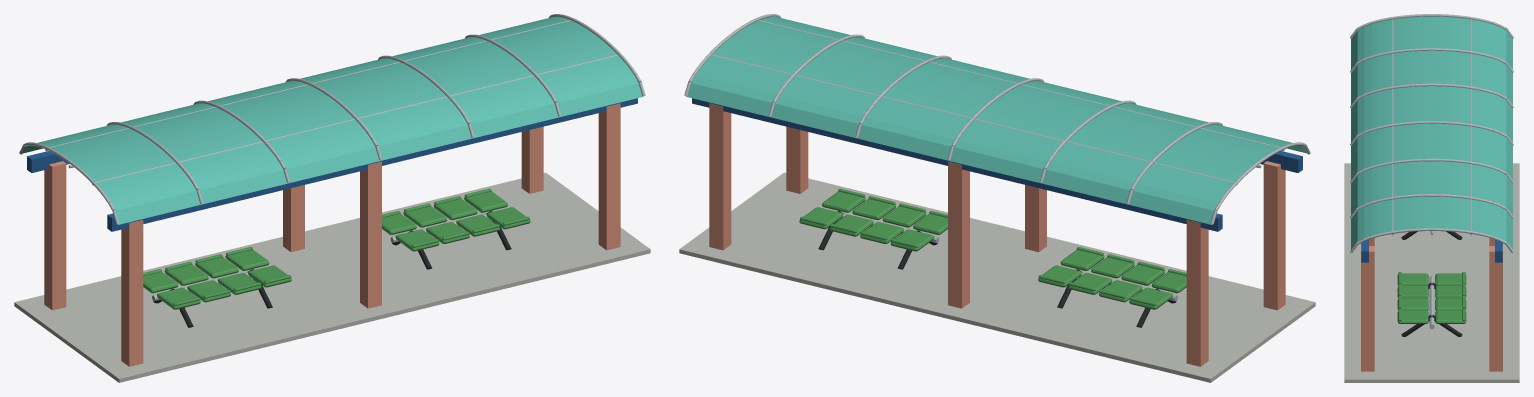
The model's file is shelter_reference.glb.
3 renders of one model, left to right at view 1: azimuth 30°, elevation 25°; view 2: azimuth 150°, elevation 25°; view 3: azimuth 270°, elevation 25°, orthographic. The views are drawn at different scales.
Parts seen in each view (by area): view 1: Continuous green barrel canopy, Paving apron, CHOSUN_SHELTER_REFERENCE__Salmon shelter columns, CHOSUN_SHELTER_REFERENCE__Green moulded seating, CHOSUN_SHELTER_REFERENCE__Brushed aluminium, CHOSUN_SHELTER_REFERENCE__Campus blue, CHOSUN_SHELTER_REFERENCE__Rubber charcoal; view 2: Continuous green barrel canopy, Paving apron, CHOSUN_SHELTER_REFERENCE__Salmon shelter columns, CHOSUN_SHELTER_REFERENCE__Green moulded seating, CHOSUN_SHELTER_REFERENCE__Brushed aluminium, CHOSUN_SHELTER_REFERENCE__Campus blue, CHOSUN_SHELTER_REFERENCE__Rubber charcoal; view 3: Continuous green barrel canopy, Paving apron, CHOSUN_SHELTER_REFERENCE__Brushed aluminium, CHOSUN_SHELTER_REFERENCE__Salmon shelter columns, CHOSUN_SHELTER_REFERENCE__Green moulded seating, CHOSUN_SHELTER_REFERENCE__Rubber charcoal, CHOSUN_SHELTER_REFERENCE__Campus blue.
Boxes of the visible parts, x1=… form: Continuous green barrel canopy: x1=22, y1=16, x2=643, y2=224; Paving apron: x1=14, y1=172, x2=650, y2=382; CHOSUN_SHELTER_REFERENCE__Salmon shelter columns: x1=44, y1=103, x2=620, y2=366; CHOSUN_SHELTER_REFERENCE__Green moulded seating: x1=143, y1=188, x2=530, y2=309; CHOSUN_SHELTER_REFERENCE__Brushed aluminium: x1=19, y1=14, x2=645, y2=301; CHOSUN_SHELTER_REFERENCE__Campus blue: x1=27, y1=98, x2=637, y2=231; CHOSUN_SHELTER_REFERENCE__Rubber charcoal: x1=153, y1=211, x2=511, y2=327; Continuous green barrel canopy: x1=686, y1=16, x2=1307, y2=224; Paving apron: x1=679, y1=172, x2=1315, y2=382; CHOSUN_SHELTER_REFERENCE__Salmon shelter columns: x1=709, y1=103, x2=1285, y2=366; CHOSUN_SHELTER_REFERENCE__Green moulded seating: x1=799, y1=188, x2=1186, y2=309; CHOSUN_SHELTER_REFERENCE__Brushed aluminium: x1=684, y1=14, x2=1310, y2=301; CHOSUN_SHELTER_REFERENCE__Campus blue: x1=692, y1=98, x2=1302, y2=231; CHOSUN_SHELTER_REFERENCE__Rubber charcoal: x1=818, y1=211, x2=1176, y2=327; Continuous green barrel canopy: x1=1351, y1=16, x2=1512, y2=249; Paving apron: x1=1344, y1=163, x2=1519, y2=382; CHOSUN_SHELTER_REFERENCE__Brushed aluminium: x1=1350, y1=14, x2=1513, y2=328; CHOSUN_SHELTER_REFERENCE__Salmon shelter columns: x1=1361, y1=238, x2=1502, y2=371; CHOSUN_SHELTER_REFERENCE__Green moulded seating: x1=1397, y1=272, x2=1466, y2=323; CHOSUN_SHELTER_REFERENCE__Rubber charcoal: x1=1401, y1=231, x2=1462, y2=336; CHOSUN_SHELTER_REFERENCE__Campus blue: x1=1361, y1=239, x2=1502, y2=262.
Size of the model in its own units: 9.8 by 3.24 by 3.35.
